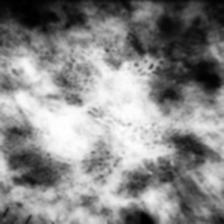Potentially Malignant Skin Tumors: (2, 0, 213, 193)
